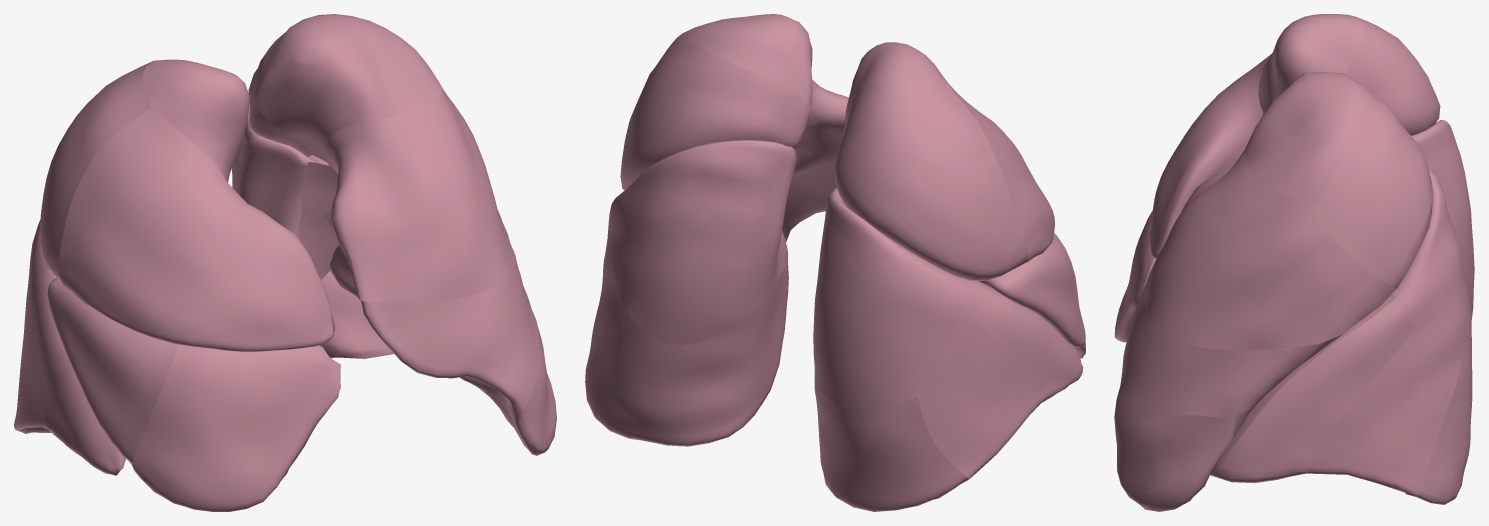
Rendered from anatomy-lungs.glb.
3 renders of one model, left to right at view 1: azimuth 30°, elevation 25°; view 2: azimuth 150°, elevation 25°; view 3: azimuth 270°, elevation 25°, orthographic. The views are drawn at different scales.
Visible parts, largest first — view 1: right-lung, left-lung; view 2: right-lung, left-lung; view 3: left-lung, right-lung.
Boxes of the visible parts, x1,y1,x2,y2 form: right-lung: (14, 59, 340, 511); left-lung: (232, 14, 556, 455); right-lung: (813, 42, 1085, 511); left-lung: (585, 14, 848, 446); left-lung: (1114, 72, 1472, 511); right-lung: (1114, 14, 1474, 342).
Bounding box in the file's own units: 1.52 × 1.34 × 1.11.
